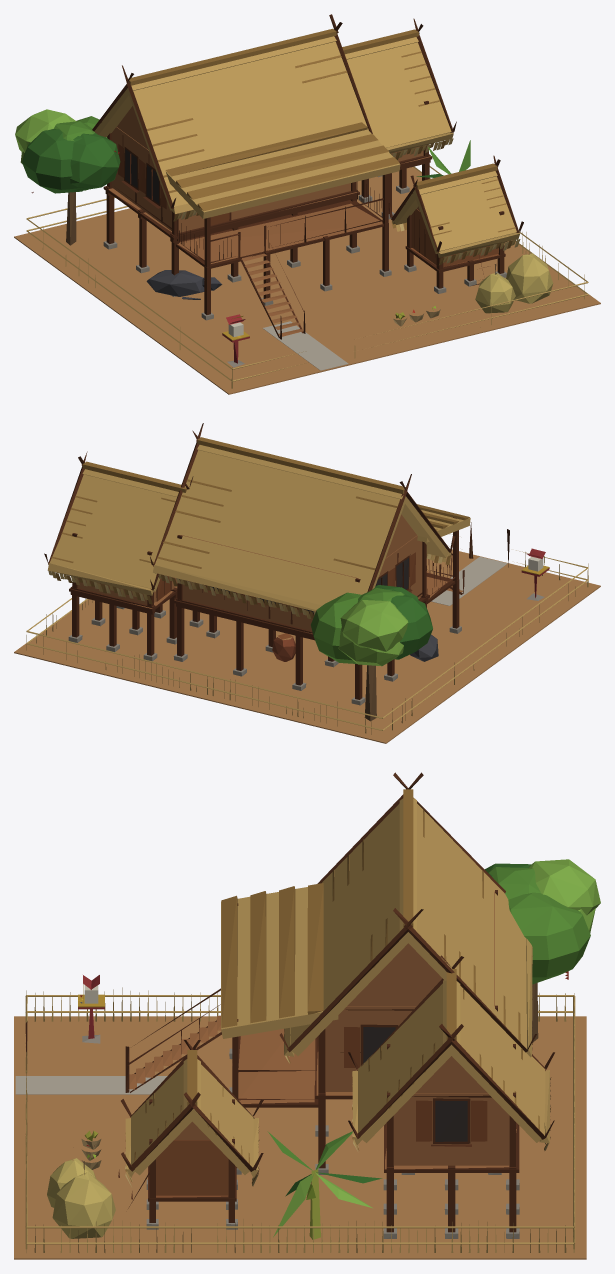
File: home_4.glb
3 views of the same model, one above another, from view 1: azimuth 30°, elevation 25°; view 2: azimuth 150°, elevation 25°; view 3: azimuth 270°, elevation 25° (orthographic). The views are drawn at different scales.
Visible parts, largest first — view 1: body, windows; view 2: body, windows; view 3: body, windows.
Boxes of the visible parts, left/top/right/bottom form: body: left=14, top=14, right=600, bottom=394; windows: left=125, top=149, right=159, bottom=203; body: left=14, top=423, right=600, bottom=743; windows: left=212, top=558, right=408, bottom=613; body: left=14, top=772, right=600, bottom=1259; windows: left=363, top=1027, right=467, bottom=1141.
Size of the model in its own units: 16.44 by 8.47 by 16.3.
